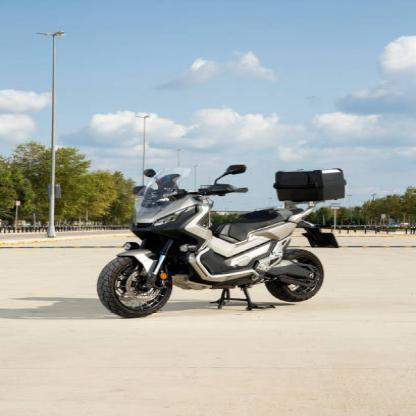Motorcycle: (96, 152, 347, 319)
